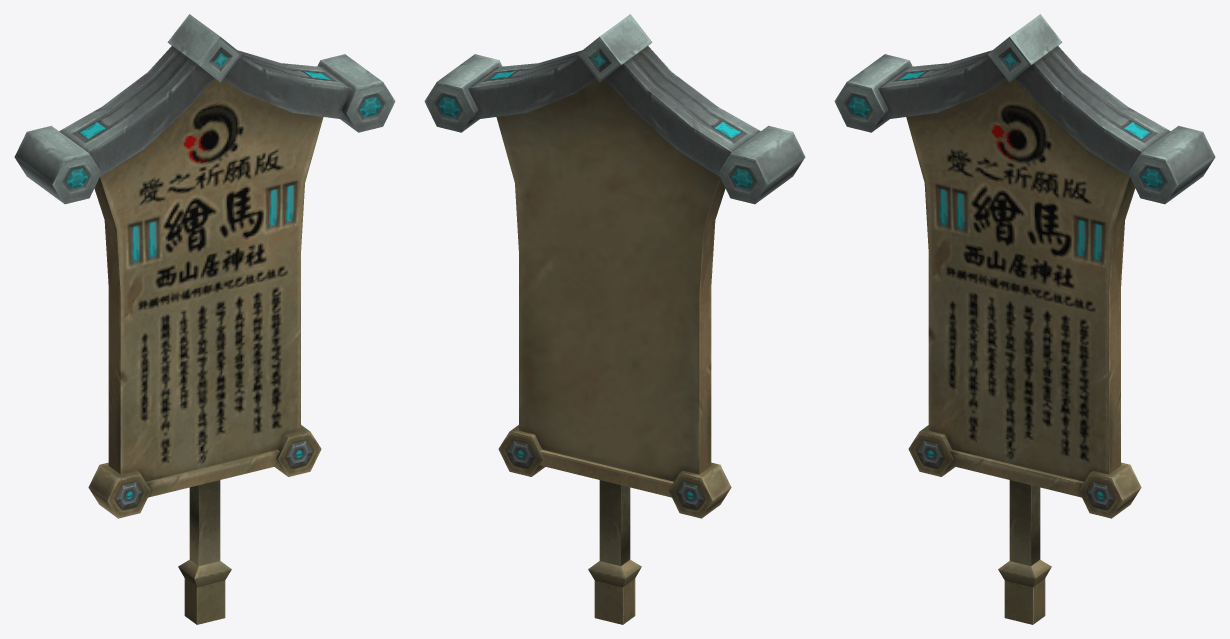
File: shrine_wj001_09.FBX
The picture shows the model from 3 angles, left to right: view 1: azimuth 30°, elevation 25°; view 2: azimuth 150°, elevation 25°; view 3: azimuth 330°, elevation 25°; orthographic projection.
Visible parts, largest first — view 1: shrine_wj001_09; view 2: shrine_wj001_09; view 3: shrine_wj001_09.
Part boxes in pixels (box(x1,y1,x2,y2)): shrine_wj001_09: box(14, 14, 395, 624); shrine_wj001_09: box(424, 14, 805, 624); shrine_wj001_09: box(834, 14, 1215, 624).
Bounding box in the file's own units: 103 × 169 × 19.76.
1 material, 1 textured.
